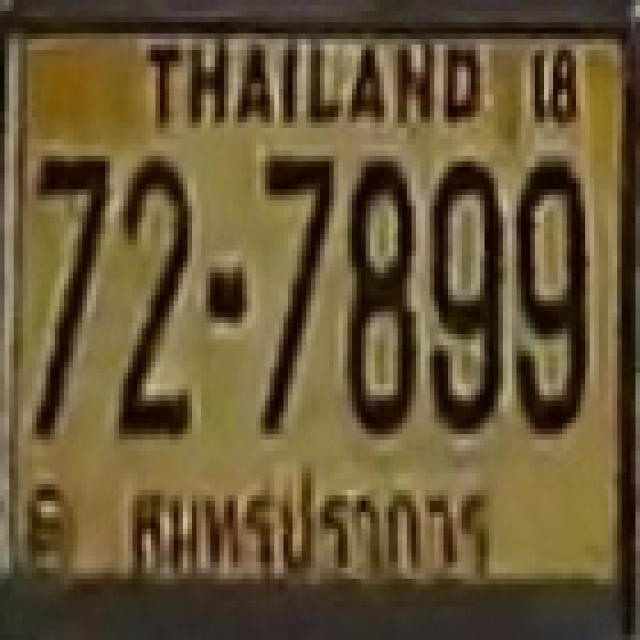2: (119, 156, 194, 442)
7: (28, 152, 108, 443), (251, 150, 329, 440)
8: (343, 153, 411, 431)
9: (425, 159, 498, 431), (512, 156, 585, 428)
SPK: (114, 465, 499, 590)
